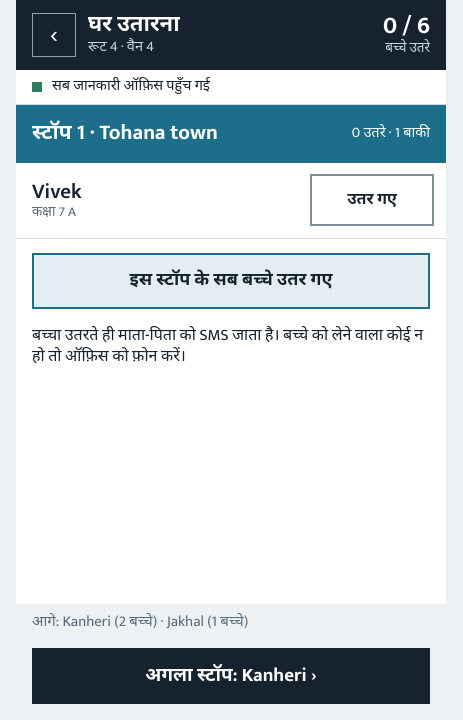
Test: Home drop (/trip/drop) › goes through the stops in order, and the last stop ends the day
Click the button "अगला स्टॉप: Kanheri ›".
click(231, 676)  # box left=32, top=648, right=430, bottom=704
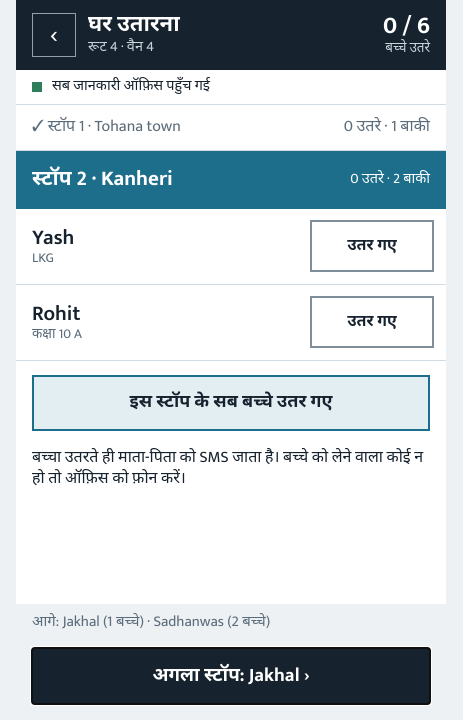
Click the button "अगला स्टॉप: Jakhal ›".
click(231, 676)  # box left=32, top=648, right=430, bottom=704
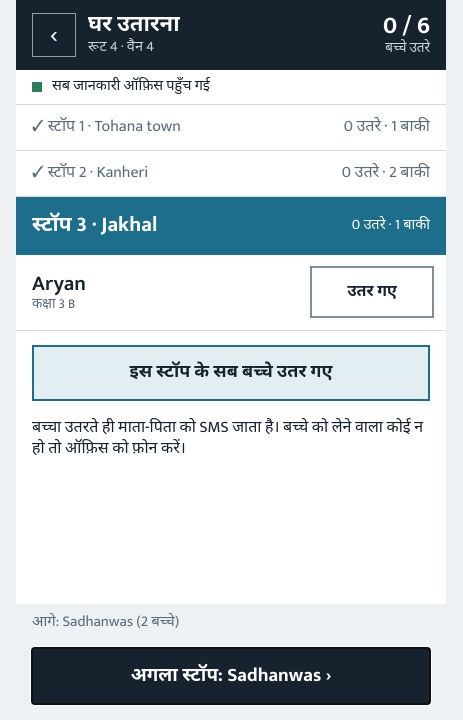
Check: the heading "स्टॉप 3 · Jakhal" is shown, box left=32, top=211, right=157, bottom=240
Click the button "अगला स्टॉप: Sadhanwas ›".
click(231, 676)  # box left=32, top=648, right=430, bottom=704
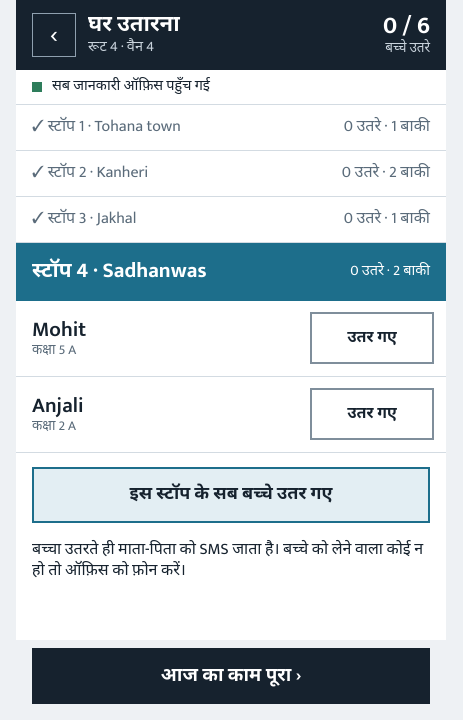
Check: the heading "स्टॉप 4 · Sadhanwas" is shown, box left=32, top=257, right=207, bottom=286
Check: the text "आगे:" is gone
